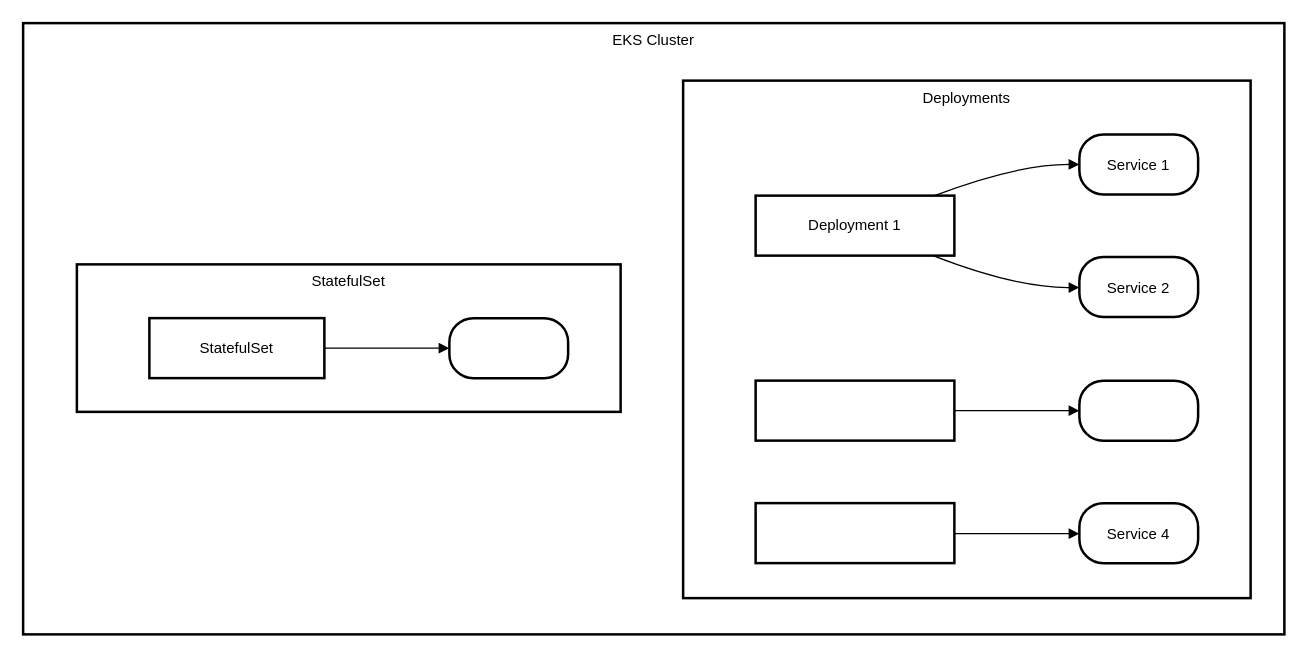
The diagram is 1306 pixels wide and 656 high, and some of its shapes have lost their labels. The centre of each missing label's shape, as x and y in pixels:
Deployment 2: (x=854, y=410)
Deployment 3: (x=854, y=532)
Service 3: (x=1138, y=410)
Service 5: (x=508, y=347)
